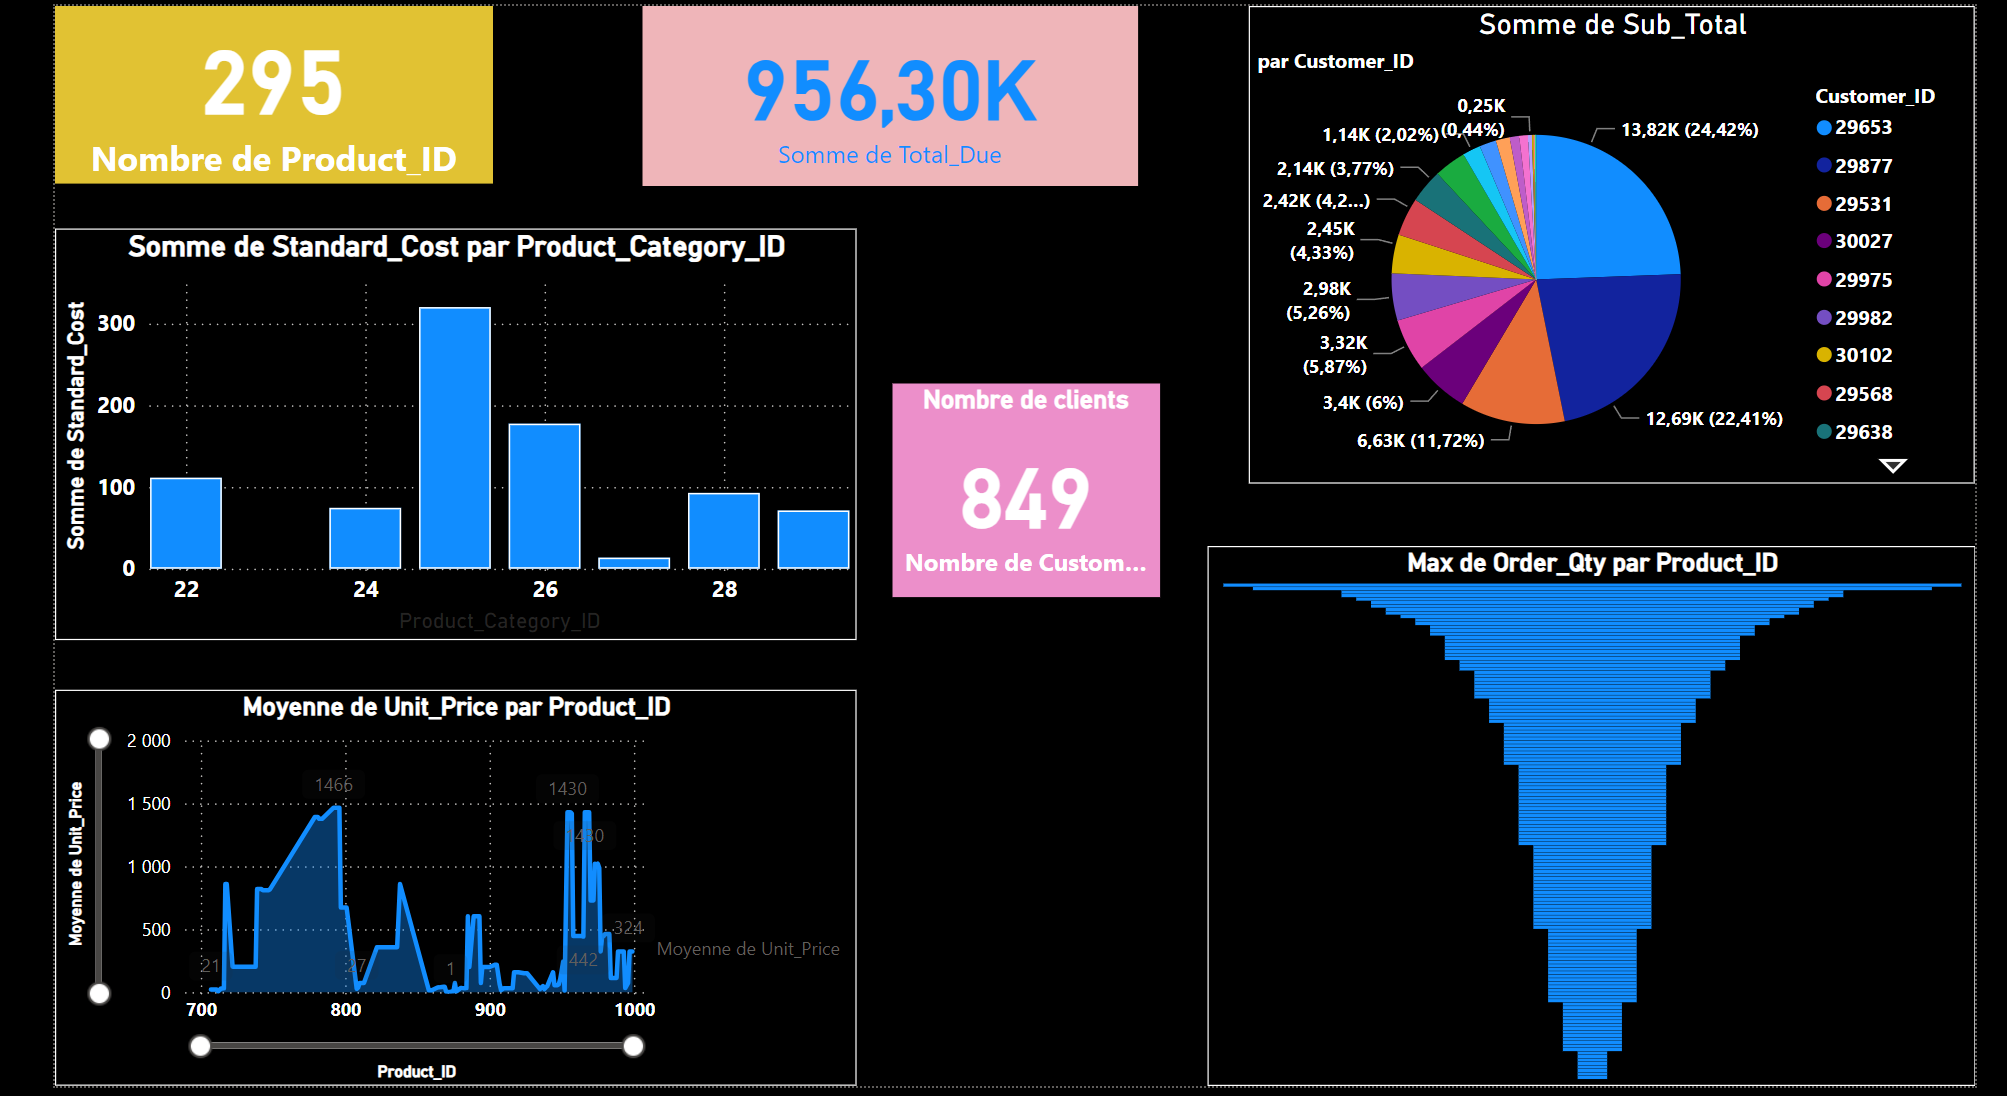

What the dashboard file says about the page in this screenshot:
{"tool":"powerbi","page":{"name":"Page 1","canvas":[1280,720],"ordinal":0},"visuals":[{"type":"card","fields":{"Values":["CountNonNull(Product.Product_ID)"]},"box":[0,0,292,118],"z":0},{"type":"columnChart","fields":{"Category":["Product.Product_Category_ID"],"Y":["Sum(Product.Standard_Cost)"]},"box":[0,148,534,274],"z":1000},{"type":"card","fields":{"Values":["Sum(SalesOrderHeader.Total_Due)"]},"box":[392,0,330,120],"z":2000},{"type":"pieChart","fields":{"Category":["SalesOrderHeader.Customer_ID"],"Y":["Sum(SalesOrderHeader.Sub_Total)"]},"box":[796,0,484,318],"z":3000},{"type":"areaChart","fields":{"Category":["SalesOrderDetail.Product_ID"],"Y":["Avg(SalesOrderDetail.Unit_Price)"]},"box":[0,456,534,264],"z":4000},{"type":"funnel","fields":{"Category":["SalesOrderDetail.Product_ID"],"Y":["Max(SalesOrderDetail.Order_Qty)"]},"box":[768,360,512,360],"z":5000},{"type":"card","title":"Nombre de clients","fields":{"Values":["CountNonNull(Customer.Customer_ID)"]},"box":[558,252,178,142],"z":5001}]}

Visuals, with their boxes in screenshot pixels (x1, y1, x2, y2):
card - CountNonNull(Product.Product_ID): [47, 0, 486, 177]
columnChart - Product.Product_Category_ID x Sum(Product.Standard_Cost): [47, 222, 850, 634]
card - Sum(SalesOrderHeader.Total_Due): [636, 0, 1132, 180]
pieChart - SalesOrderHeader.Customer_ID x Sum(SalesOrderHeader.Sub_Total): [1244, 0, 1971, 478]
areaChart - SalesOrderDetail.Product_ID x Avg(SalesOrderDetail.Unit_Price): [47, 686, 850, 1082]
funnel - SalesOrderDetail.Product_ID x Max(SalesOrderDetail.Order_Qty): [1202, 541, 1971, 1082]
"Nombre de clients" card: [886, 379, 1153, 592]
